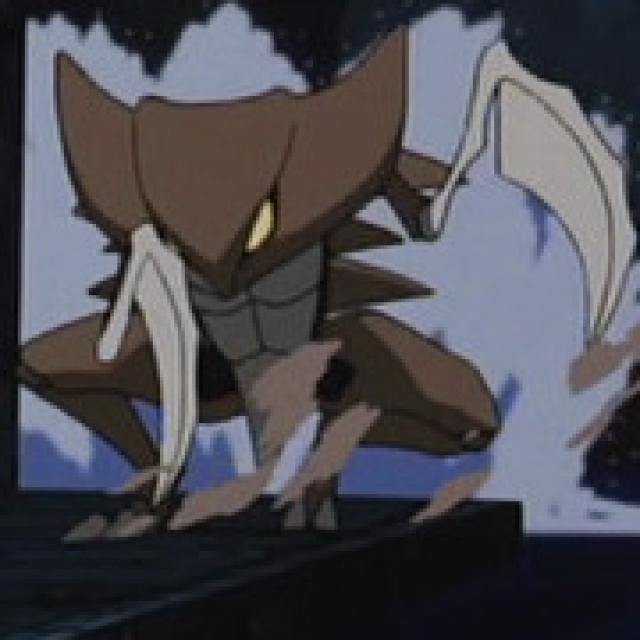Kabutops: (21, 20, 640, 535)
